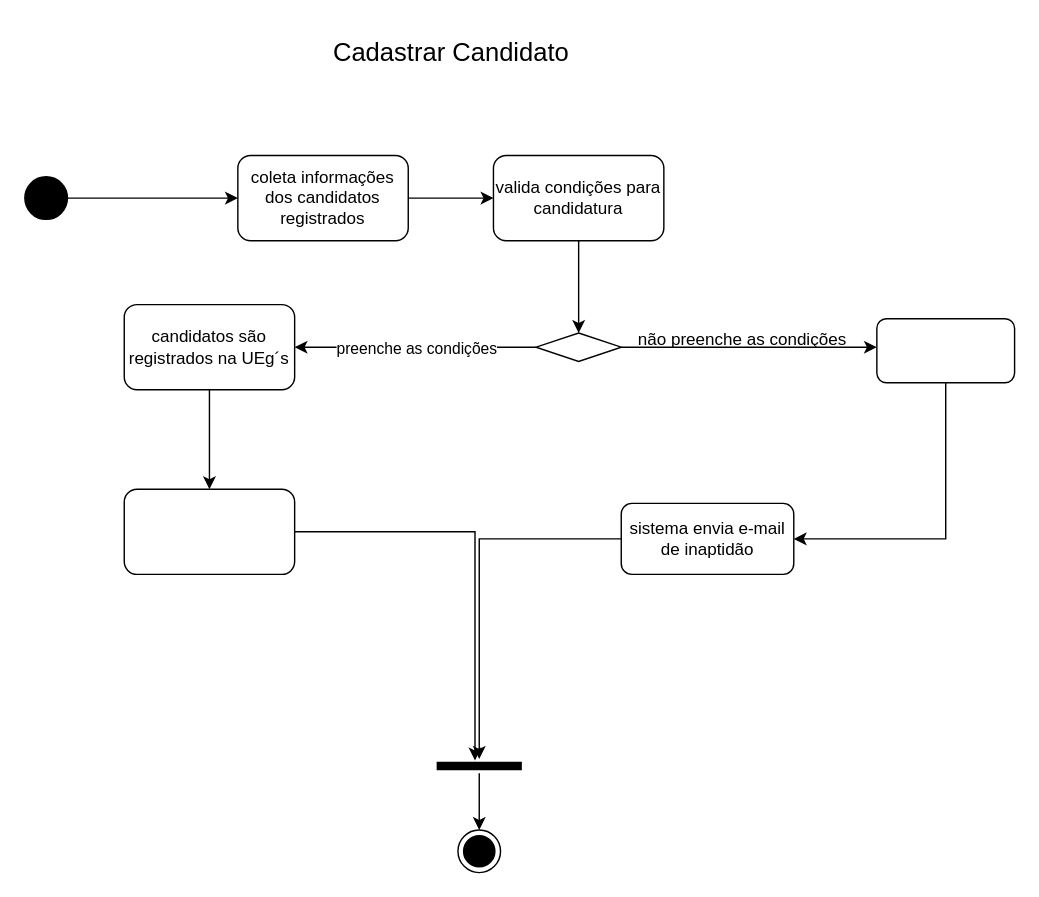
Some shapes in this 1039 by 897 pixel diagram are drawn without their labels. Here are the shapes that lost their labels. From the top down, the centre of each, then its label:
At point (945, 350): "candiato não registrado no sistema".
At point (209, 531): "sistema envia e-mail de confirmação para os candidatos".
